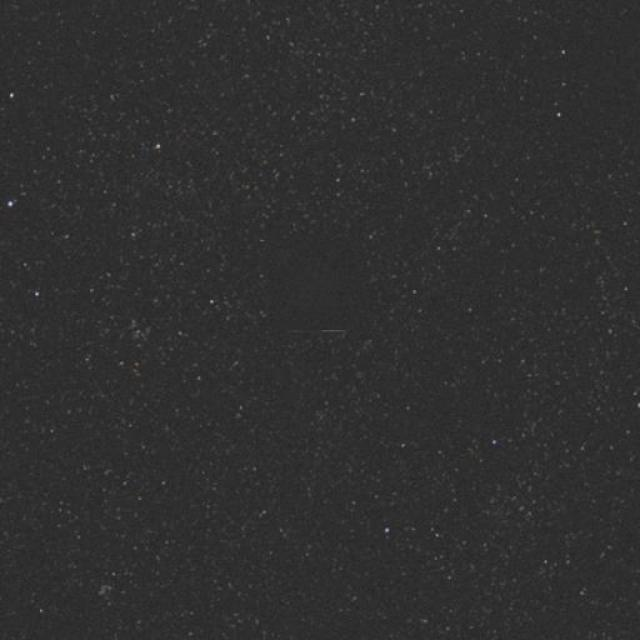proba_3_ocs: (253, 185, 392, 395)
